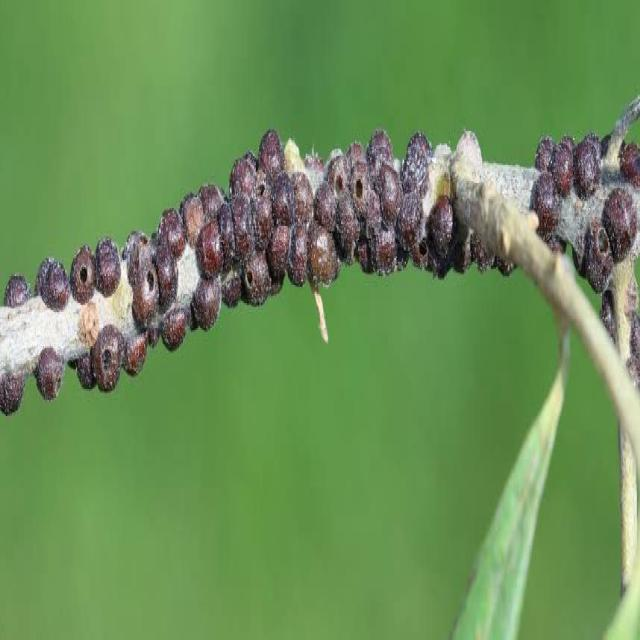Black Scale: (179, 129, 293, 335), (316, 129, 432, 276), (530, 133, 601, 238), (126, 210, 185, 333), (583, 188, 639, 292), (71, 324, 148, 391), (289, 171, 316, 294), (69, 238, 120, 303), (427, 195, 456, 276), (35, 258, 70, 310), (148, 308, 189, 351), (34, 346, 63, 400), (0, 272, 31, 317), (0, 371, 26, 414), (620, 137, 639, 185)
